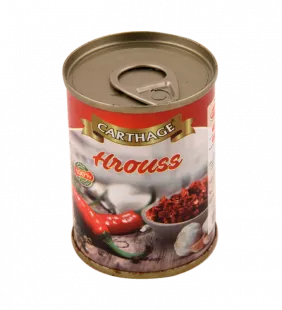CARTHAGE: (52, 20, 229, 284)
